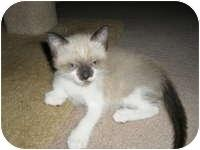siamese: (47, 20, 110, 89)
